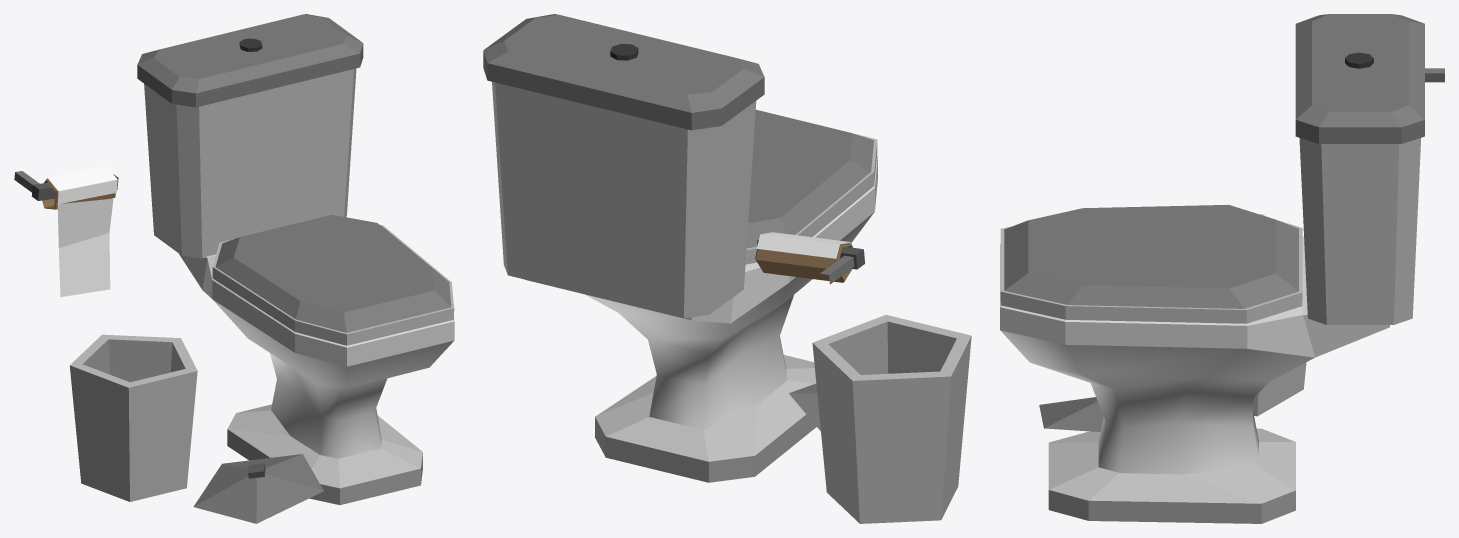
File: MidToilet.glb
3 views of the same model, side by side, from view 1: azimuth 30°, elevation 25°; view 2: azimuth 150°, elevation 25°; view 3: azimuth 270°, elevation 25° (orthographic). The views are drawn at different scales.
Visible parts, largest first — view 1: midToilet; view 2: midToilet; view 3: midToilet.
Part boxes in pixels (box(x1,y1,x2,y2)): midToilet: box(14, 14, 454, 523); midToilet: box(483, 14, 971, 523); midToilet: box(1000, 14, 1444, 523).
Size of the model in its own units: 0.9286 by 0.9986 by 0.9399.
1 material, 1 textured.
